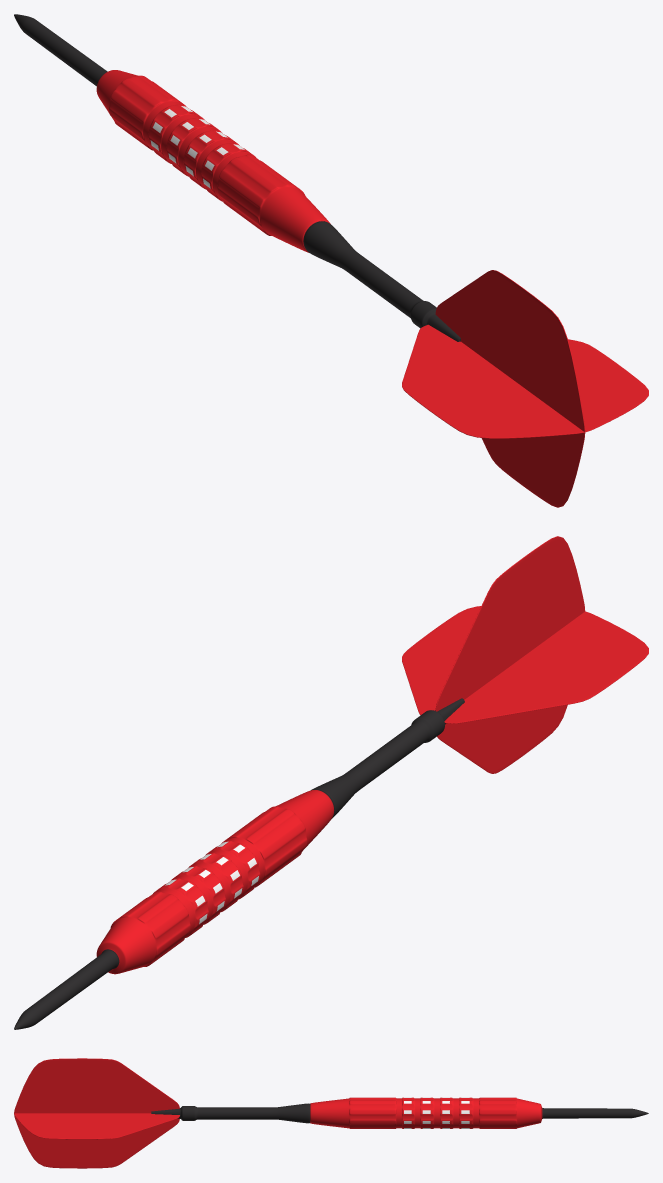
File: demo.glb
3 renders of one model, top to bottom at view 1: azimuth 30°, elevation 25°; view 2: azimuth 150°, elevation 25°; view 3: azimuth 270°, elevation 25°, orthographic. The views are drawn at different scales.
Parts seen in each view (by area): view 1: 11750_throwing_dart_v1_L3; view 2: 11750_throwing_dart_v1_L3; view 3: 11750_throwing_dart_v1_L3.
Boxes of the visible parts, x1,y1,x2,y2 form: 11750_throwing_dart_v1_L3: [14, 14, 648, 507]; 11750_throwing_dart_v1_L3: [14, 536, 648, 1029]; 11750_throwing_dart_v1_L3: [14, 1058, 648, 1168].
Size of the model in its own units: 1.89 by 1.89 by 9.89.
Materials: 1 (1 with a texture image).
